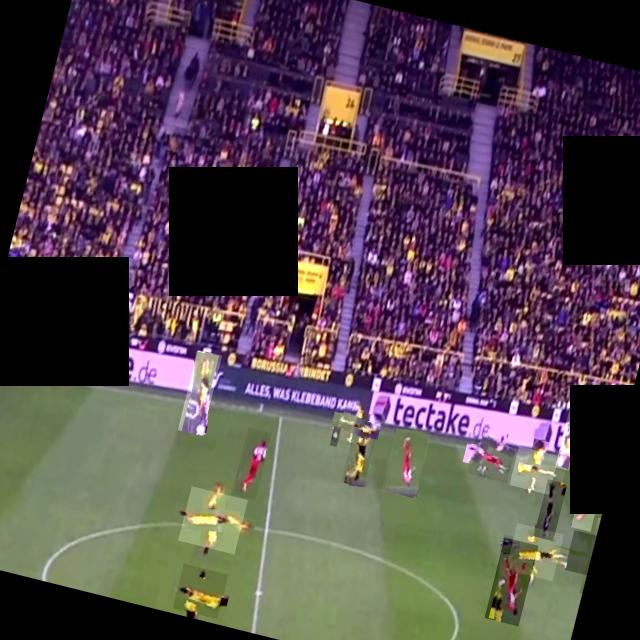ball: (328, 424, 340, 446)
referee: (532, 478, 566, 540)
soccer-player: (176, 484, 246, 552), (483, 536, 537, 624), (380, 423, 430, 498), (177, 348, 220, 435), (504, 521, 562, 580), (171, 562, 227, 618), (230, 426, 270, 500), (340, 418, 378, 487), (570, 458, 606, 530), (508, 444, 558, 494), (466, 432, 516, 482), (574, 423, 608, 475), (334, 403, 376, 445), (554, 408, 582, 470), (564, 528, 596, 574)
